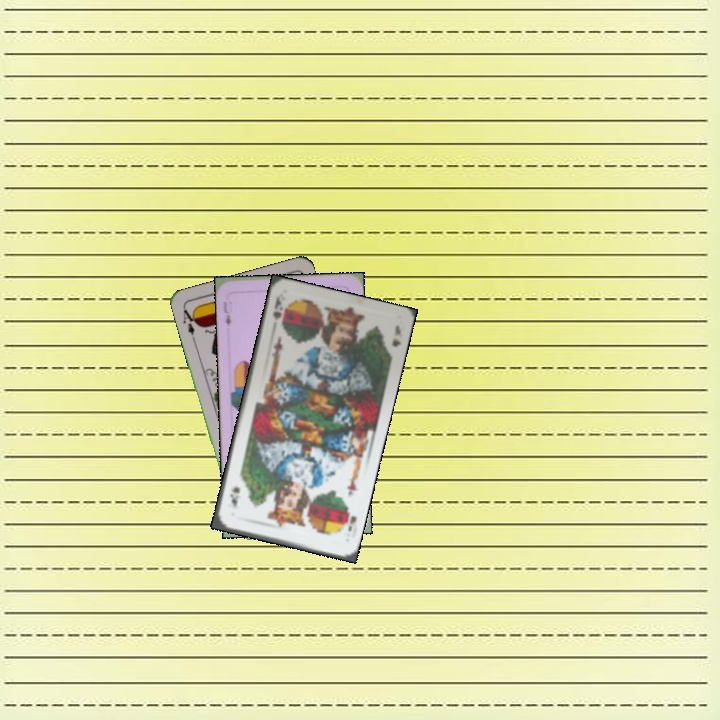EA: (179, 304, 200, 338)
EU: (219, 297, 233, 328)
SK: (269, 291, 288, 329), (338, 503, 360, 534)
